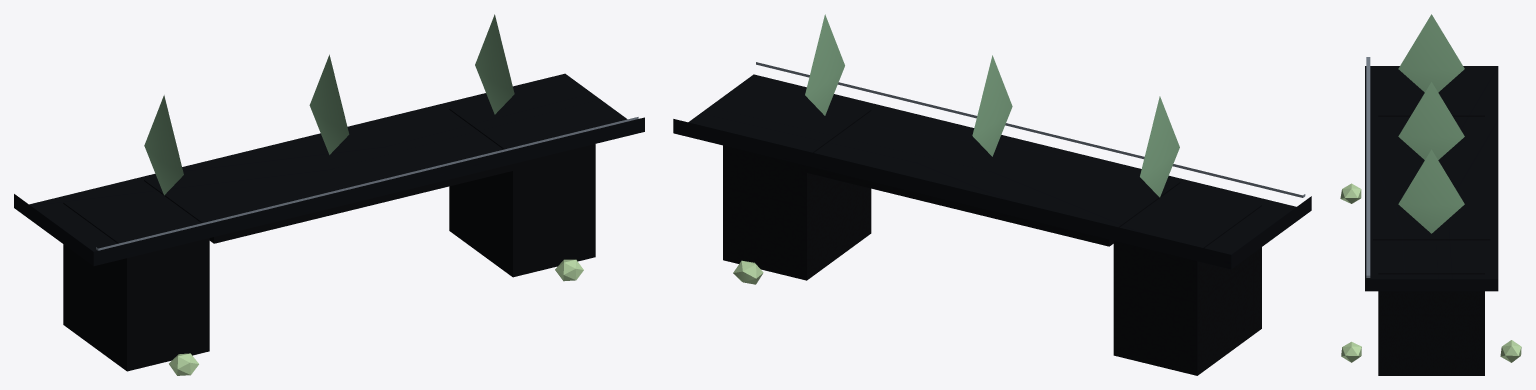
The model's file is tt_aquarium_bench.glb.
3 renders of one model, left to right at view 1: azimuth 30°, elevation 25°; view 2: azimuth 150°, elevation 25°; view 3: azimuth 270°, elevation 25°, orthographic. The views are drawn at different scales.
Parts seen in each view (by area): view 1: Bench_Seat, Bench_Plinths, Seat_Crests, Bench_Subslab, Seat_Edge, Moss_Tufts; view 2: Bench_Seat, Bench_Plinths, Seat_Crests, Bench_Subslab, Seat_Edge; view 3: Bench_Seat, Bench_Plinths, Seat_Crests, Seat_Edge, Moss_Tufts, Bench_Subslab.
Part boxes in pixels (<box>): Bench_Seat: <box>14,73,644,266</box>; Bench_Plinths: <box>63,109,595,371</box>; Seat_Crests: <box>144,14,514,195</box>; Bench_Subslab: <box>144,163,514,243</box>; Seat_Edge: <box>96,117,638,250</box>; Moss_Tufts: <box>169,259,583,375</box>; Bench_Seat: <box>673,74,1311,269</box>; Bench_Plinths: <box>723,110,1261,375</box>; Seat_Crests: <box>805,14,1179,197</box>; Bench_Subslab: <box>804,165,1180,246</box>; Seat_Edge: <box>756,62,1305,197</box>; Bench_Seat: <box>1365,66,1498,291</box>; Bench_Plinths: <box>1378,115,1484,375</box>; Seat_Crests: <box>1398,14,1464,233</box>; Seat_Edge: <box>1366,57,1370,277</box>; Moss_Tufts: <box>1340,183,1521,362</box>; Bench_Subslab: <box>1373,239,1490,240</box>.
Size of what is drawn, in the model's own units: 2 by 0.825 by 0.6791.
Materials: 5 (3 with a texture image).
